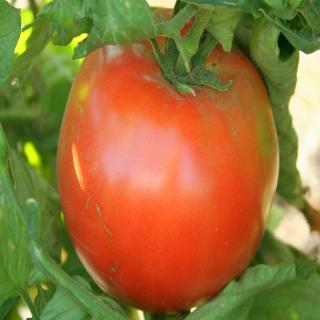tomato: (60, 8, 288, 320)
